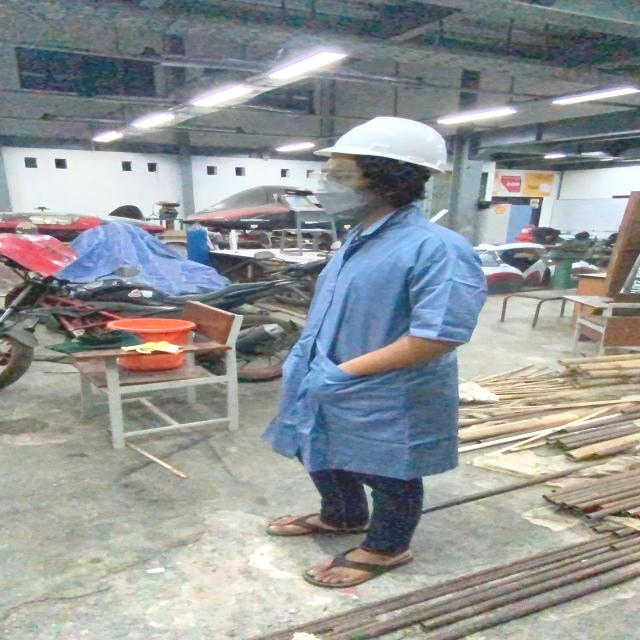face_mask: (308, 166, 379, 216)
glasses: (308, 168, 370, 186)
head_helmet: (308, 113, 456, 167)
person: (231, 104, 483, 594)
